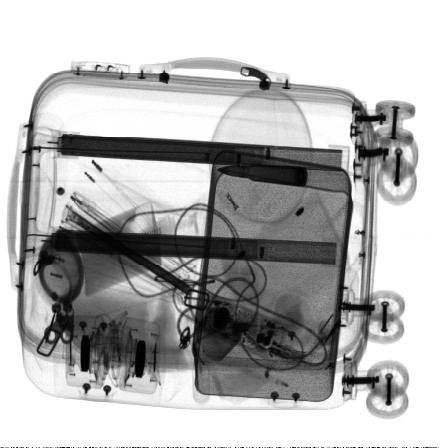Bullet: (215, 165, 308, 188)
